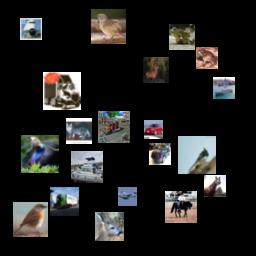airplane: (20, 18, 42, 40), (118, 187, 137, 206)
automobile: (149, 143, 171, 165), (144, 120, 163, 139)
bird: (178, 136, 216, 174), (21, 135, 59, 173), (13, 202, 48, 237), (91, 9, 126, 44)
cat: (66, 118, 92, 144)
deer: (95, 212, 124, 241), (143, 57, 169, 83)
frog: (169, 24, 195, 50), (196, 47, 218, 69)
ship: (71, 151, 103, 183), (213, 77, 235, 99)
truck: (43, 72, 81, 110), (98, 111, 130, 143), (50, 187, 79, 216)
